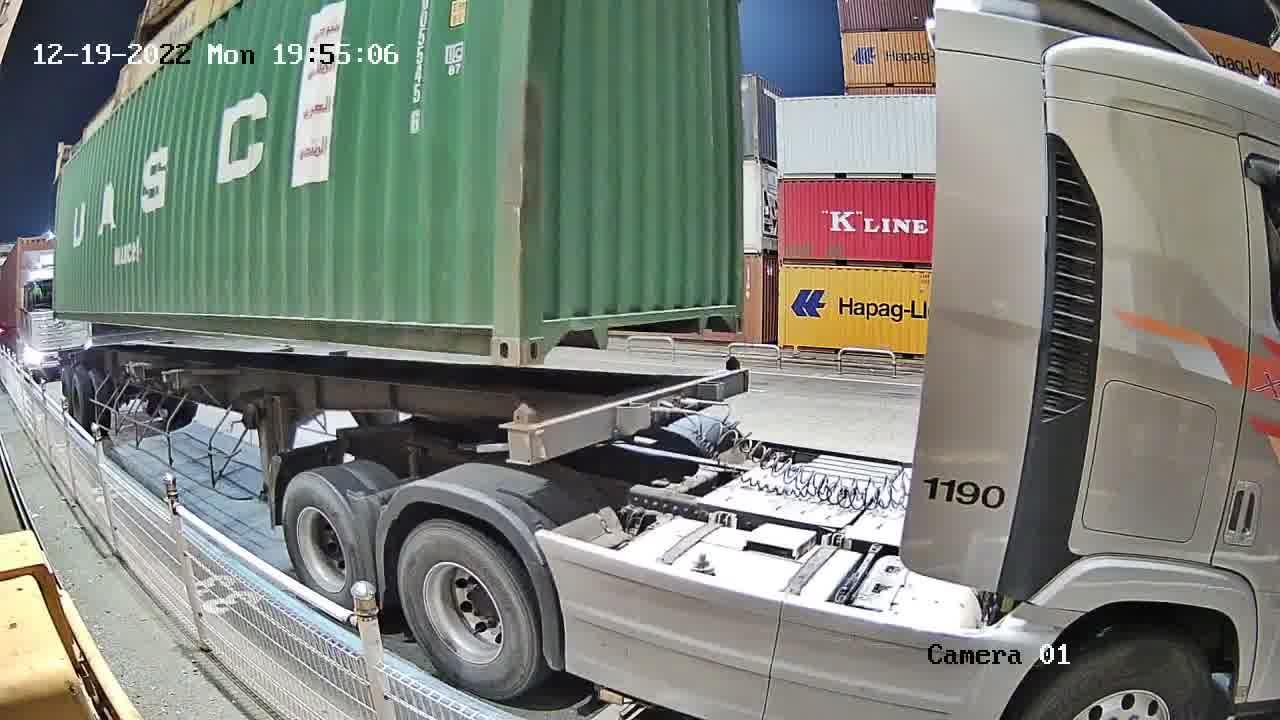Chassis: (500, 369, 747, 462)
Cone: (507, 404, 534, 456), (719, 356, 742, 374)
Hole_L: (518, 300, 574, 366)
Hole_R: (455, 296, 519, 367), (703, 275, 745, 333)
Tire: (398, 523, 536, 701), (281, 472, 361, 608)
